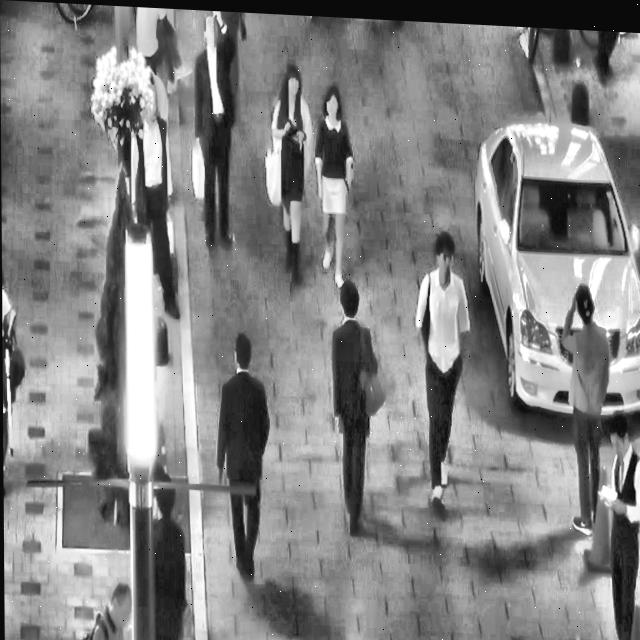light_vehicle: (468, 93, 640, 424)
